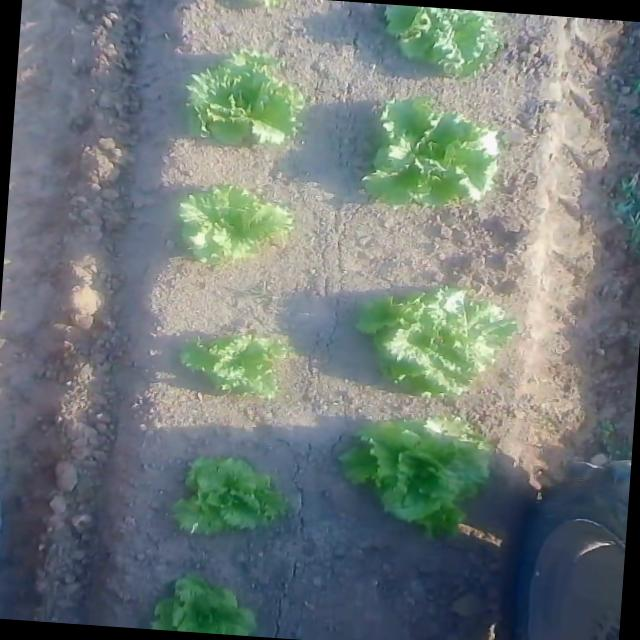Lettuce-Ready-to-Harvest: (335, 408, 494, 544), (348, 281, 519, 400), (362, 94, 504, 211), (180, 44, 308, 148), (174, 182, 295, 269), (169, 452, 285, 540), (174, 325, 288, 403)
